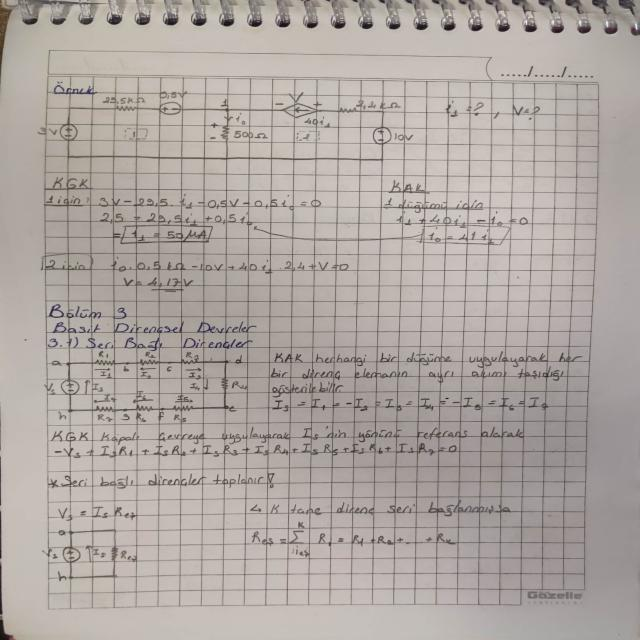image: (36, 90, 421, 166), (42, 348, 262, 425), (41, 502, 157, 585)
math: (93, 196, 325, 243), (105, 254, 354, 295), (248, 520, 466, 556), (51, 443, 461, 462), (391, 209, 535, 247), (269, 397, 554, 414)
text: (265, 347, 588, 400), (43, 303, 265, 351), (47, 429, 534, 444), (240, 498, 524, 518), (46, 470, 282, 491), (378, 196, 484, 210)
